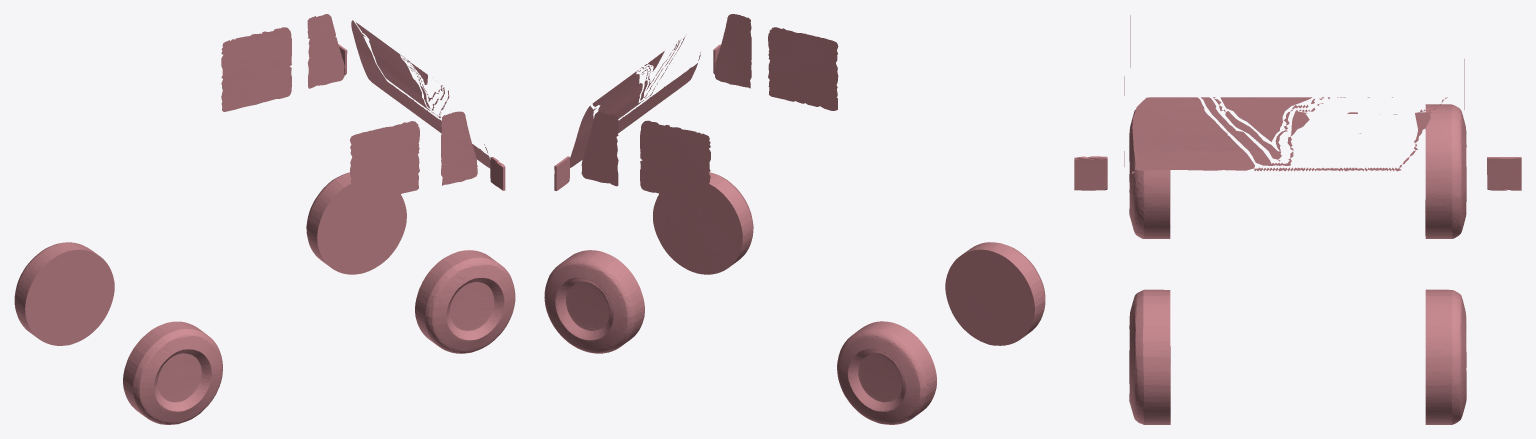
The model's file is tk_volA.glb.
The picture shows the model from 3 angles, left to right: view 1: azimuth 30°, elevation 25°; view 2: azimuth 150°, elevation 25°; view 3: azimuth 270°, elevation 25°; orthographic projection. The views are drawn at different scales.
Parts seen in each view (by area): view 1: part6, part1, part2, part5, part3, part4, part9, part8, part7; view 2: part2, part5, part1, part6, part3, part4, part9, part8, part7; view 3: part9, part5, part6, part1, part2, part10, part11.
Boxes of the visible parts, x1,y1,x2,y2 form: part6: (415,250,515,353); part1: (14,242,114,345); part2: (123,321,222,424); part5: (306,172,406,274); part3: (221,27,291,111); part4: (350,121,419,204); part9: (351,20,490,168); part8: (441,111,477,185); part7: (307,14,344,88); part2: (945,242,1045,345); part5: (544,250,644,353); part1: (837,321,936,424); part6: (653,172,753,274); part3: (640,120,710,205); part4: (768,27,838,110); part9: (570,34,700,167); part8: (714,14,751,88); part7: (581,111,618,186); part9: (1132,97,1447,173); part5: (1425,289,1466,424); part6: (1129,289,1170,424); part1: (1425,104,1466,238); part2: (1129,109,1170,238); part10: (1487,157,1521,190); part11: (1074,156,1107,190).
Size of the model in its own units: 0.7438 by 0.4684 by 0.5783.
